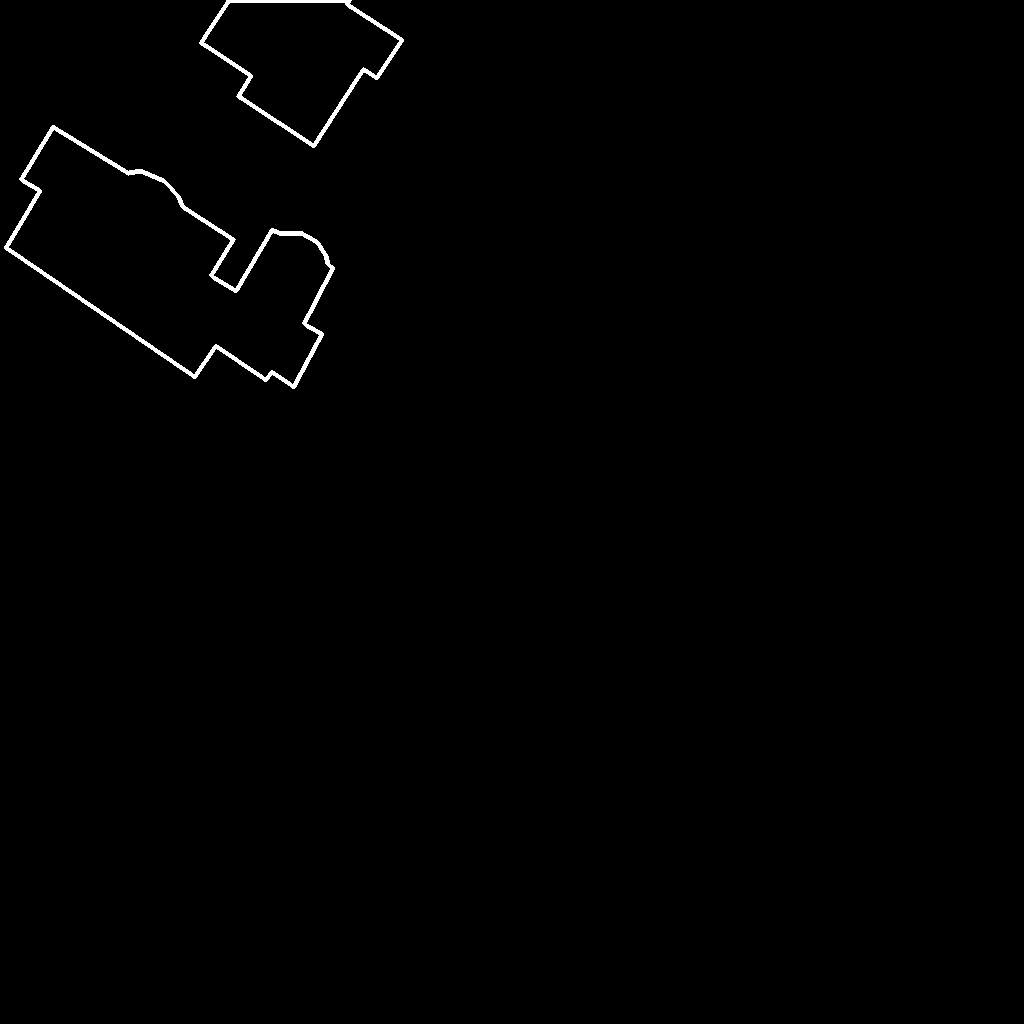building: (6, 127, 334, 388), (201, 0, 403, 147)
